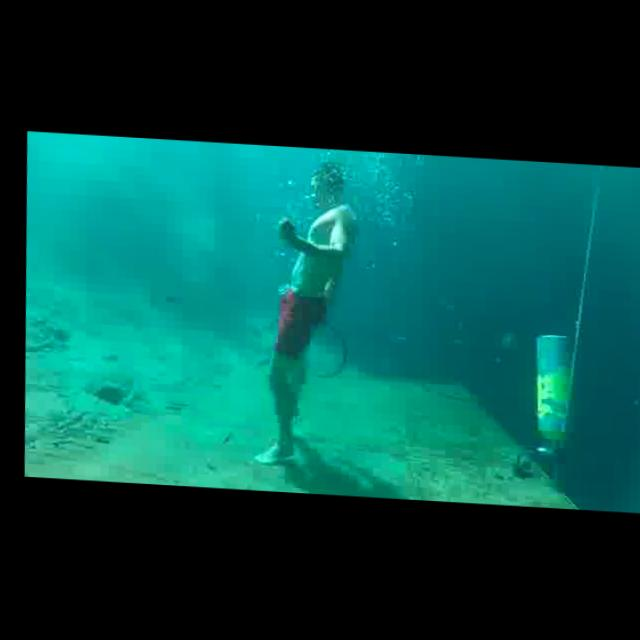human: (238, 152, 369, 472)
